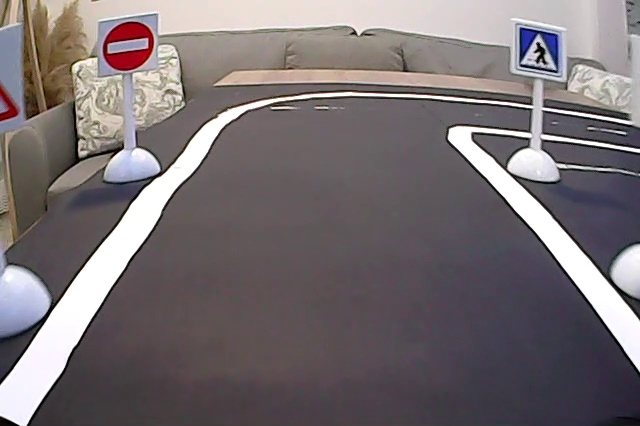do not enter: (101, 16, 157, 74)
pedestrian crossing: (516, 22, 563, 78)
